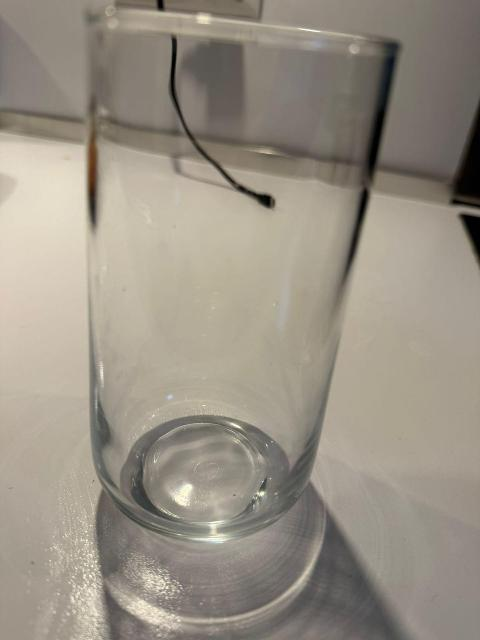Cam: (83, 10, 421, 543)
